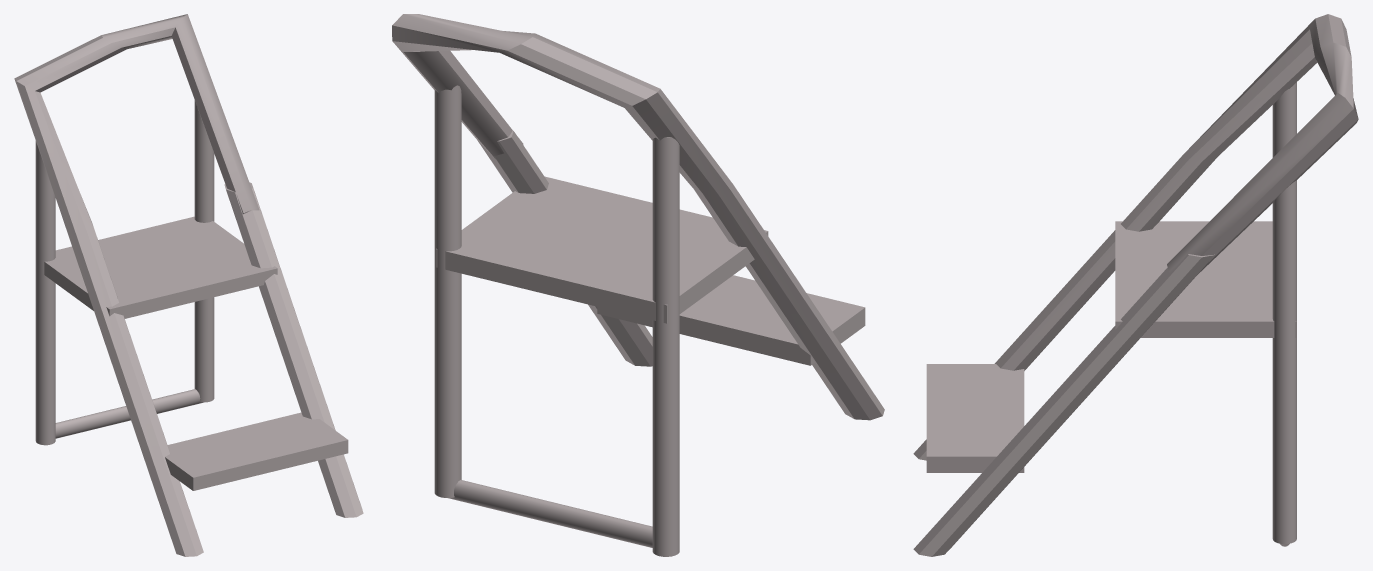
The model's file is Step_Ladder 1.fbx.
3 renders of one model, left to right at view 1: azimuth 30°, elevation 25°; view 2: azimuth 150°, elevation 25°; view 3: azimuth 270°, elevation 25°, orthographic. The views are drawn at different scales.
Parts seen in each view (by area): view 1: pCube7; view 2: pCube7; view 3: pCube7.
Part boxes in pixels (x1,y1,x2,y2): pCube7: (14,14,363,556); pCube7: (392,14,884,556); pCube7: (913,14,1358,556).
Bounding box in the file's own units: 291 × 560 × 493.
1 material, 1 textured.
